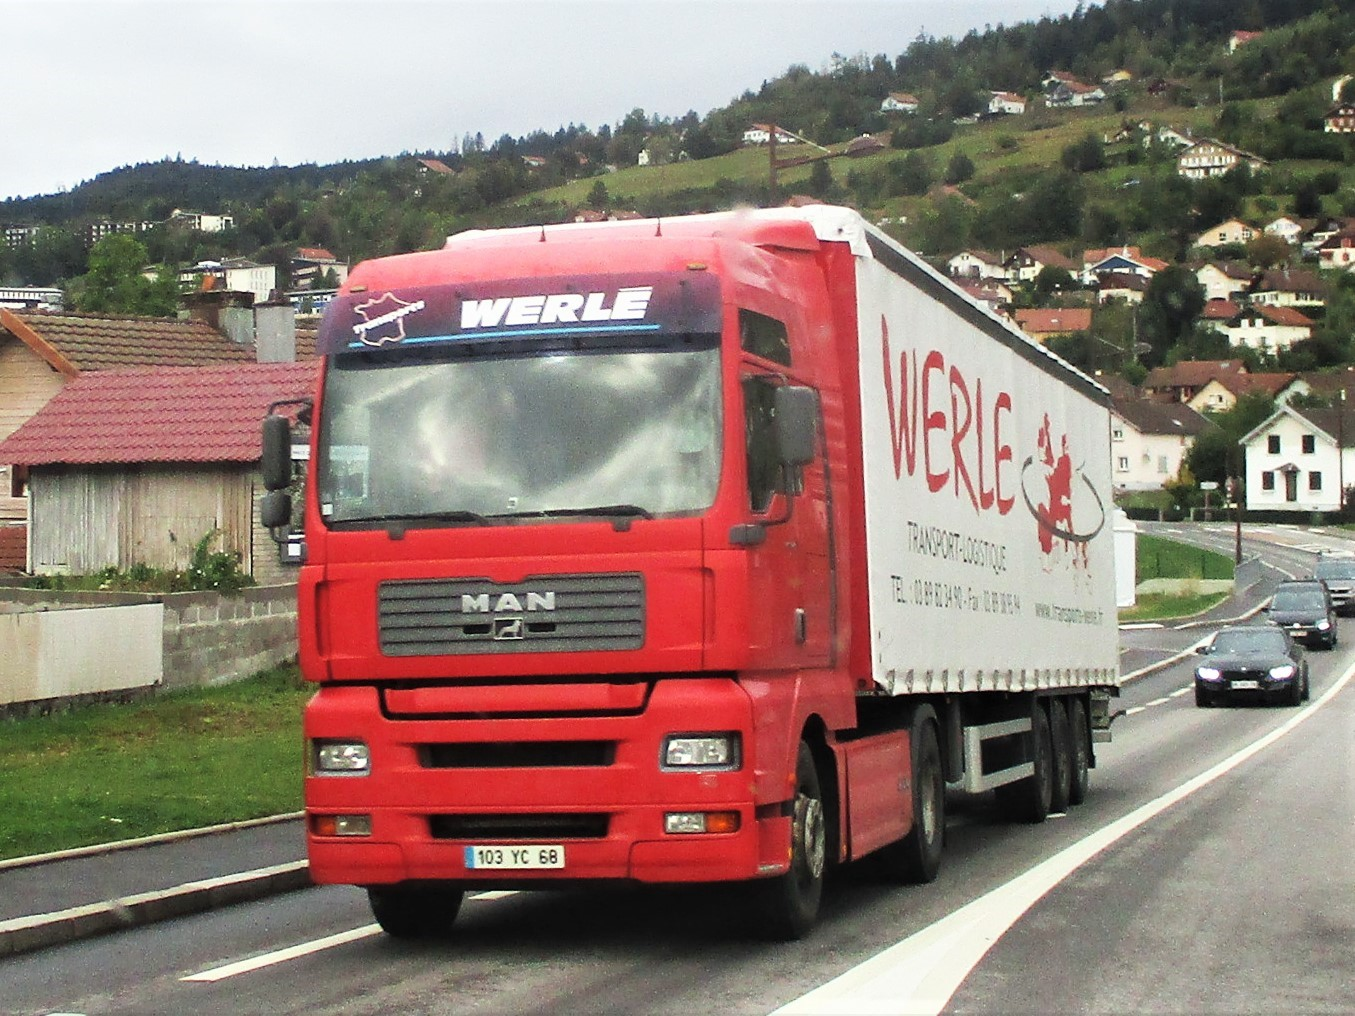licence plate: (461, 842, 566, 870)
